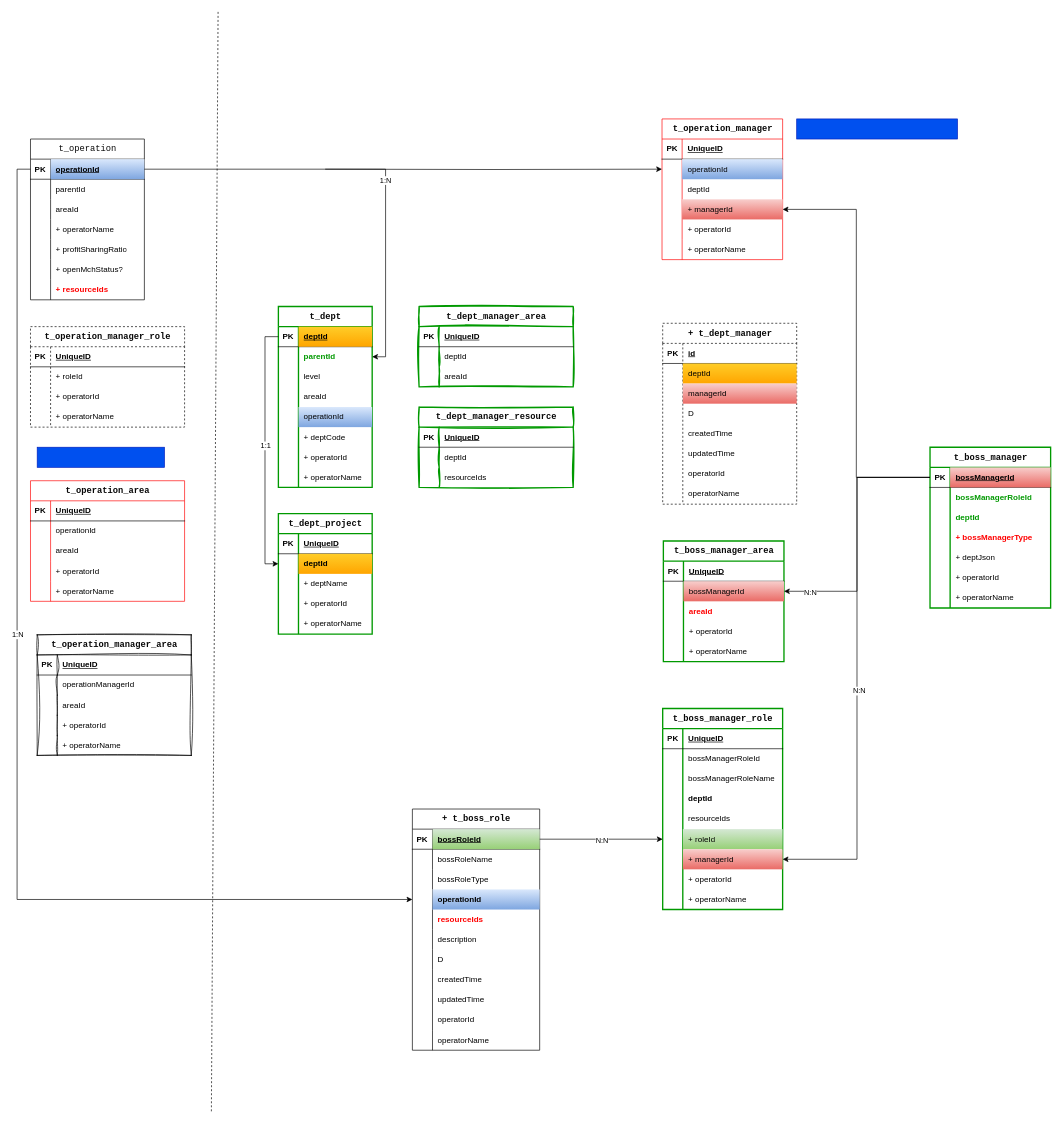
Image size: 1063x1124. Some labels were removed from this diagram. Here are the shapes that lost their labels. From the top down, the centre of each, then its label:
At (x=876, y=128): "acp 中新建表 t_boss_manager_operation".
At (x=100, y=457): "acp 中新建表 t_operation_area".
